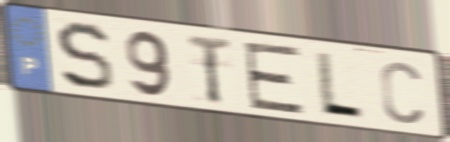9: (123, 28, 174, 100)
C: (377, 58, 426, 126)
E: (240, 40, 307, 116)
L: (314, 48, 366, 122)
S: (53, 19, 116, 93)
T: (185, 32, 234, 106)
